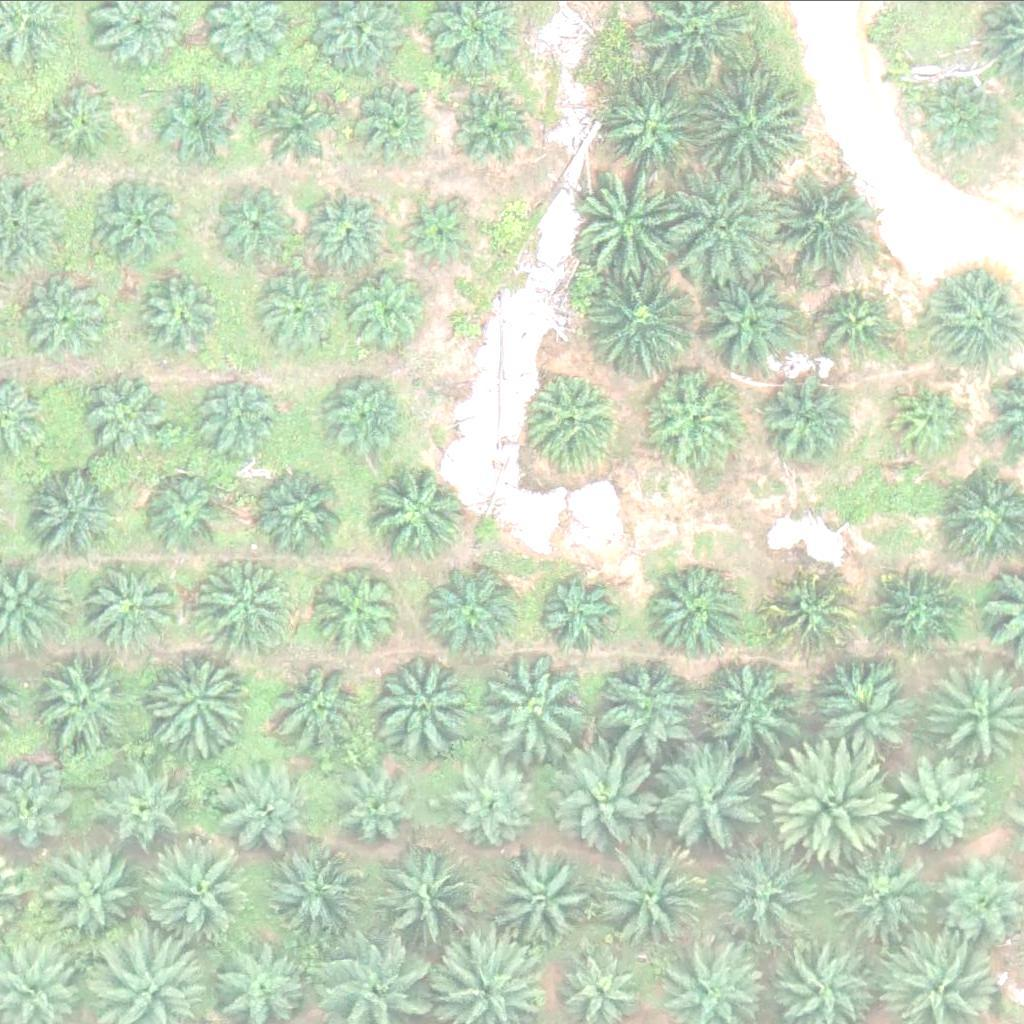Kelapa_Sawit: (770, 734, 896, 859), (694, 72, 808, 185), (648, 744, 762, 857), (377, 843, 491, 956), (596, 842, 709, 955), (708, 838, 821, 951), (590, 265, 703, 378), (479, 650, 592, 763), (554, 737, 667, 850), (364, 645, 478, 757), (669, 165, 782, 277), (573, 166, 686, 278), (146, 831, 259, 943), (699, 277, 800, 377), (641, 557, 742, 657), (700, 650, 801, 750), (829, 847, 930, 947), (600, 78, 701, 178), (23, 459, 124, 559), (255, 463, 356, 563), (371, 462, 472, 562), (199, 553, 300, 653), (39, 653, 140, 753), (155, 653, 256, 753), (493, 844, 594, 944), (44, 838, 145, 938), (774, 179, 874, 279), (642, 366, 742, 466), (607, 655, 707, 755), (807, 665, 907, 765), (527, 368, 627, 468), (427, 560, 527, 660), (271, 651, 371, 751), (215, 750, 315, 850), (271, 843, 371, 943), (921, 78, 1009, 166), (759, 381, 847, 469), (765, 570, 853, 658), (86, 372, 174, 460), (188, 379, 276, 467), (136, 277, 224, 365), (91, 179, 179, 267), (454, 80, 542, 168), (37, 78, 125, 166), (321, 563, 409, 651), (534, 571, 622, 659), (873, 568, 961, 655), (897, 760, 985, 847), (323, 373, 411, 460), (340, 263, 428, 350), (255, 267, 343, 354), (19, 276, 107, 363), (216, 182, 304, 269), (300, 181, 388, 268), (344, 83, 432, 170), (247, 75, 335, 162), (150, 83, 238, 170), (141, 468, 229, 555), (85, 559, 173, 646), (104, 759, 192, 846), (348, 759, 436, 846), (453, 754, 541, 841), (397, 192, 473, 267), (890, 382, 966, 457), (816, 287, 891, 362)
